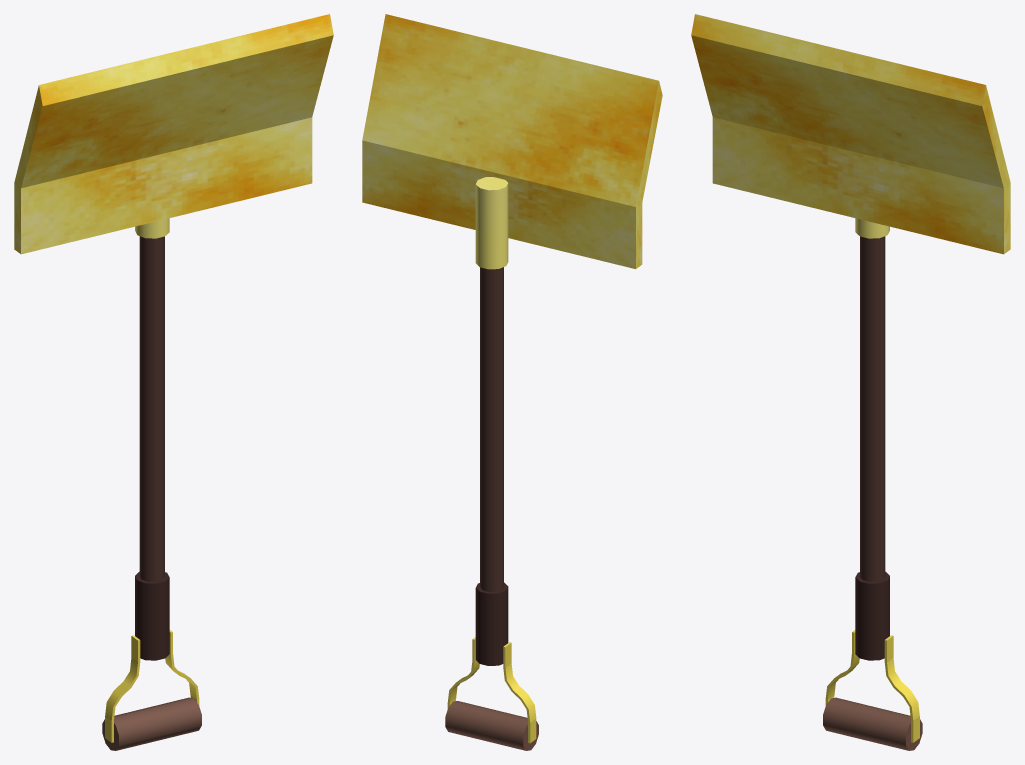
Rendered from Xeng vang.fbx.
3 views of the same model, side by side, from view 1: azimuth 30°, elevation 25°; view 2: azimuth 150°, elevation 25°; view 3: azimuth 330°, elevation 25° (orthographic). The views are drawn at different scales.
Visible parts, largest first — view 1: L3, C3, TC3; view 2: L3, C3, TC3; view 3: L3, C3, TC3.
Boxes of the visible parts, bbox=[...] form: L3: bbox=[14, 14, 333, 254]; C3: bbox=[139, 236, 164, 581]; TC3: bbox=[102, 571, 201, 750]; L3: bbox=[362, 14, 662, 269]; C3: bbox=[480, 267, 503, 591]; TC3: bbox=[445, 582, 538, 750]; L3: bbox=[691, 14, 1010, 254]; C3: bbox=[860, 236, 885, 581]; TC3: bbox=[823, 571, 922, 750].
Bounding box in the file's own units: 128 × 301 × 33.8.
